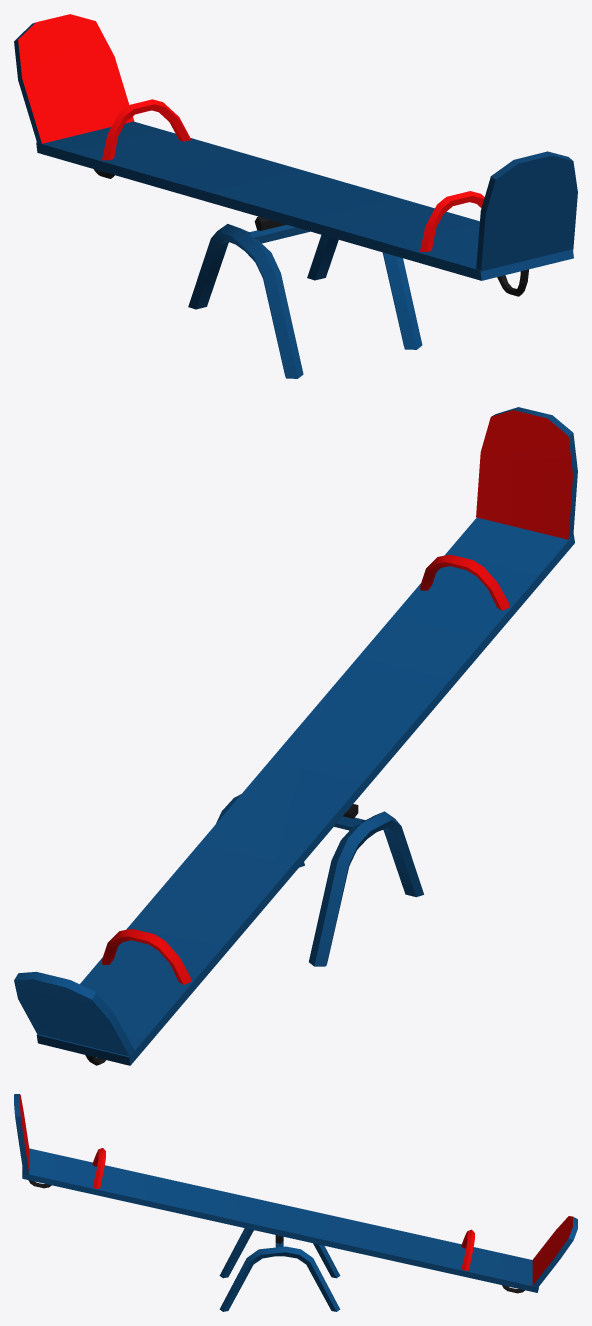
The model's file is SM_Swings_01.fbx.
The picture shows the model from 3 angles, top to bottom: view 1: azimuth 30°, elevation 25°; view 2: azimuth 150°, elevation 25°; view 3: azimuth 270°, elevation 25°; orthographic projection. The views are drawn at different scales.
Visible parts, largest first — view 1: SM_Swings_01; view 2: SM_Swings_01; view 3: SM_Swings_01.
Part boxes in pixels (x1,y1,x2,y2): SM_Swings_01: [14, 14, 577, 378]; SM_Swings_01: [14, 407, 577, 1065]; SM_Swings_01: [14, 1094, 577, 1311].
Size of the model in its own units: 45.42 by 107 by 280.
Materials: 1 (1 with a texture image).
